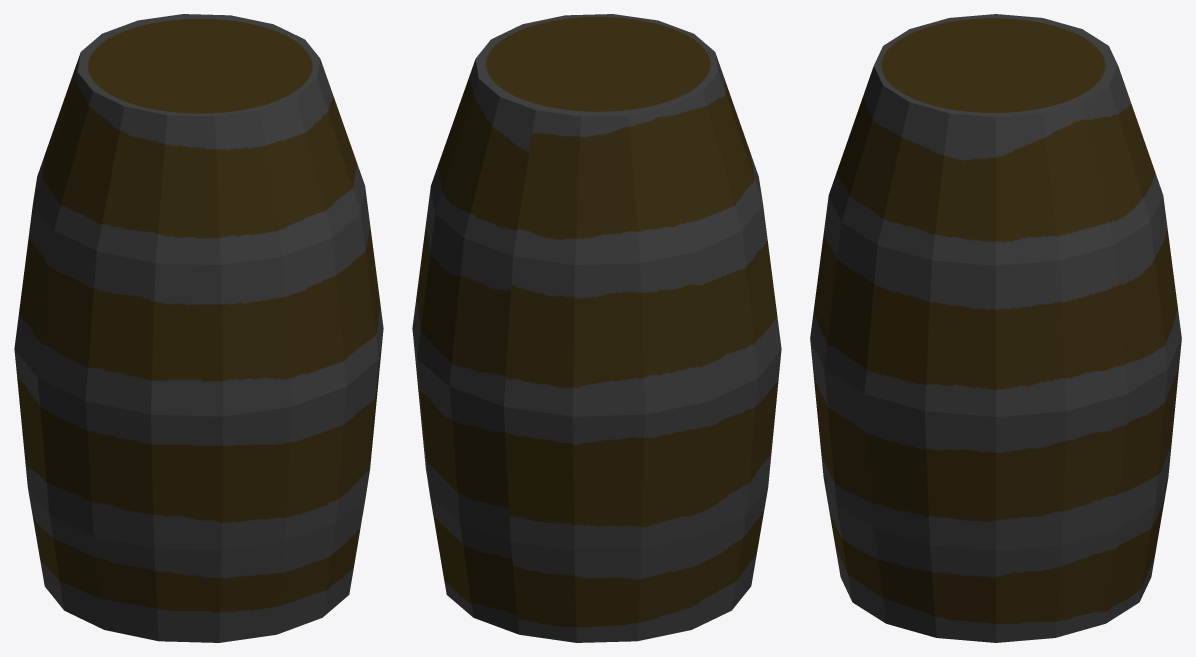
File: barrel.fbx
The picture shows the model from 3 angles, left to right: view 1: azimuth 30°, elevation 25°; view 2: azimuth 150°, elevation 25°; view 3: azimuth 270°, elevation 25°; orthographic projection.
Parts seen in each view (by area): view 1: Barrel; view 2: Barrel; view 3: Barrel.
Boxes of the visible parts, left/top/right/bottom form: Barrel: left=14, top=14, right=383, bottom=642; Barrel: left=412, top=14, right=781, bottom=642; Barrel: left=810, top=14, right=1181, bottom=642.
Bounding box in the file's own units: 2.39 × 3.63 × 2.39.
1 material, 1 textured.
